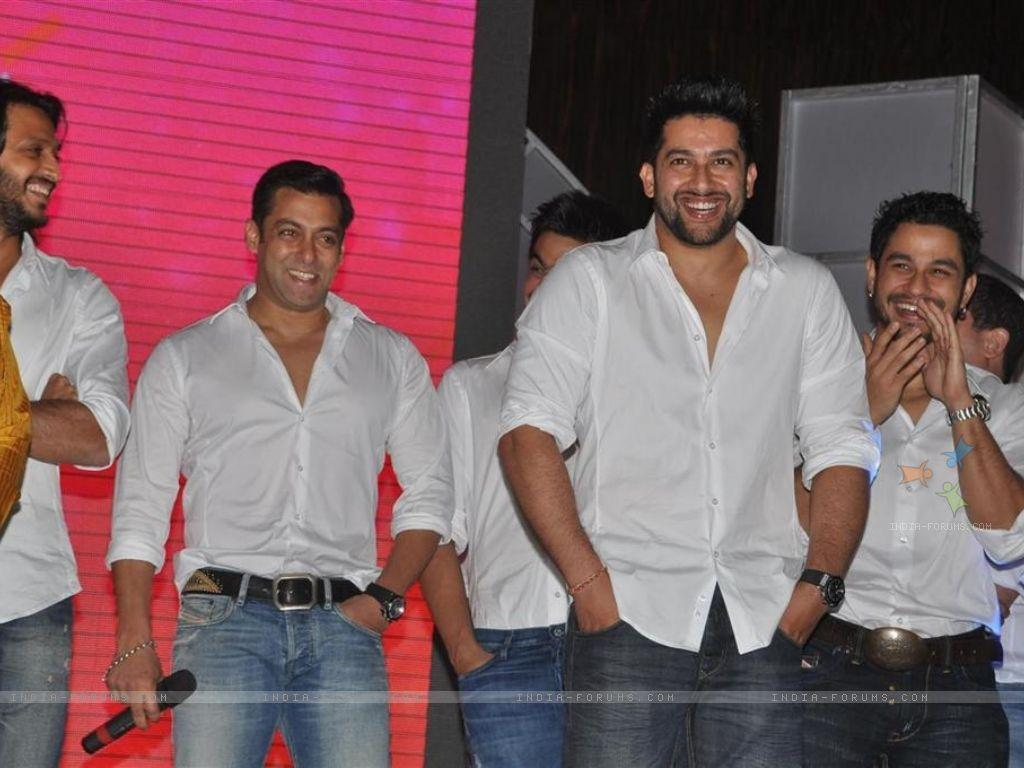face: (658, 116, 746, 246), (880, 214, 962, 342), (264, 186, 336, 308), (522, 236, 602, 326), (8, 108, 60, 226), (939, 307, 987, 398)
